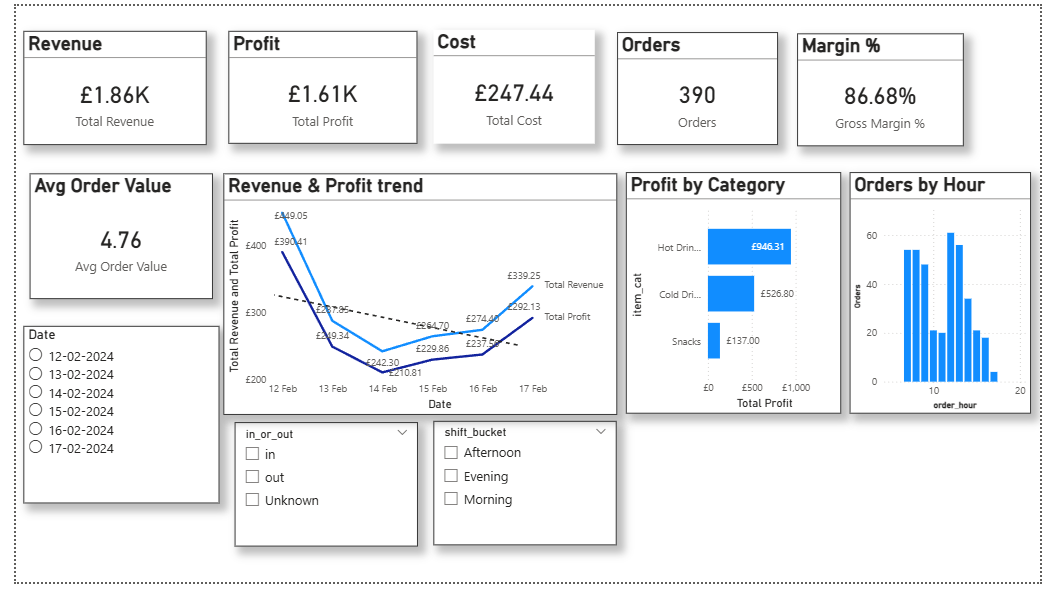

The dashboard page shown, as its layout file describes it:
{"tool":"powerbi","page":{"name":"Executive Overview","canvas":[1280,720],"ordinal":0},"visuals":[{"type":"card","title":"Revenue","fields":{"Values":["_Measures.Total Revenue"]},"box":[10,31.3,229,142.2],"z":0},{"type":"card","title":"Profit","fields":{"Values":["_Measures.Total Profit"]},"box":[266,31.3,236.1,140.8],"z":1000},{"type":"card","title":"Cost","fields":{"Values":["_Measures.Total Cost"]},"box":[522,29.9,202,142.2],"z":2000},{"type":"card","title":"Orders","fields":{"Values":["_Measures.Orders"]},"box":[750.9,32.7,200.5,140.8],"z":3000},{"type":"card","title":"Margin %","fields":{"Values":["_Measures.Gross Margin %"]},"box":[977.1,34.1,207.6,140.8],"z":4000},{"type":"card","title":"Avg Order Value","fields":{"Values":["_Measures.Avg Order Value"]},"box":[17.1,209.1,229,156.4],"z":5000},{"type":"listSlicer","fields":{"Values":["Calendar.Date"]},"box":[3.1,475,245.3,221.9],"z":6000},{"type":"slicer","fields":{"Values":["DimInOut.in_or_out"]},"box":[273.1,520.5,229,155],"z":7000},{"type":"slicer","fields":{"Values":["DimShift.shift_bucket"]},"box":[522,519.1,229,155],"z":8000},{"type":"lineChart","title":"Revenue & Profit trend","fields":{"Category":["Calendar.Date"],"Y":["_Measures.Total Revenue","_Measures.Total Profit"]},"box":[258.8,209.1,492.1,301.5],"z":9000},{"type":"clusteredBarChart","title":"Profit by Category","fields":{"Category":["DimItem.item_cat"],"Y":["_Measures.Total Profit"]},"box":[762.5,207.8,268.8,301.6],"z":10000},{"type":"clusteredColumnChart","title":"Orders by Hour","fields":{"Category":["DimHour.order_hour"],"Y":["_Measures.Orders"]},"box":[1042.2,207.8,226.6,301.6],"z":11000}]}

Visuals, with their boxes in screenshot pixels (x1, y1, x2, y2), scaled from the page's 1280x720 canvas onto the 1050x592 screenshot:
"Revenue" card: l=8, t=26, r=196, b=143
"Profit" card: l=218, t=26, r=412, b=142
"Cost" card: l=428, t=25, r=594, b=142
"Orders" card: l=616, t=27, r=780, b=143
"Margin %" card: l=802, t=28, r=972, b=144
"Avg Order Value" card: l=14, t=172, r=202, b=301
listSlicer - Calendar.Date: l=3, t=391, r=204, b=573
slicer - DimInOut.in_or_out: l=224, t=428, r=412, b=555
slicer - DimShift.shift_bucket: l=428, t=427, r=616, b=554
"Revenue & Profit trend" lineChart: l=212, t=172, r=616, b=420
"Profit by Category" clusteredBarChart: l=625, t=171, r=846, b=419
"Orders by Hour" clusteredColumnChart: l=855, t=171, r=1041, b=419
